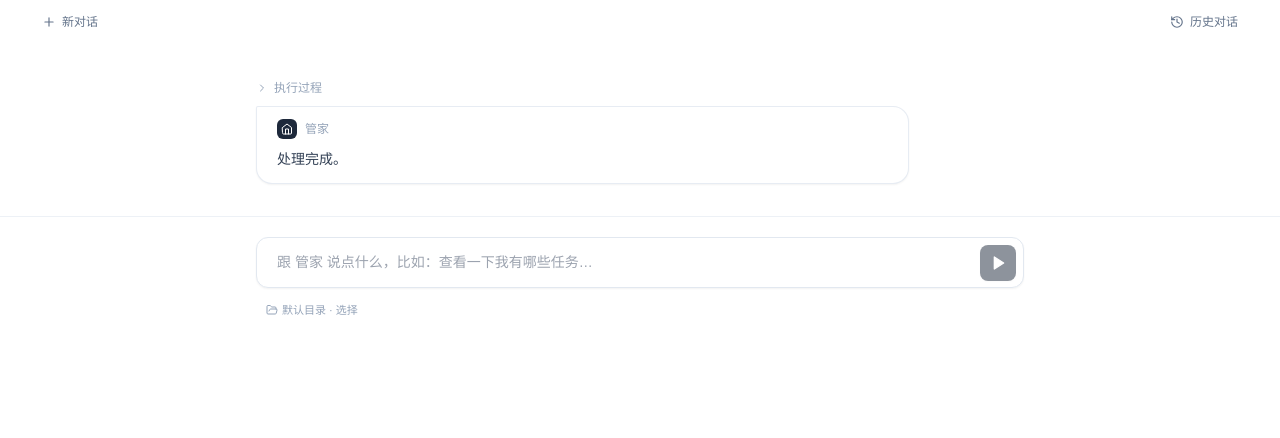
ChatStream conversation initialization (Story 2.2 AC-2 / AC-7) › 处理结束后的助手消息在顶部统一显示执行过程且默认折叠
Click the button "执行过程": (289, 88) [256,76,322,100]
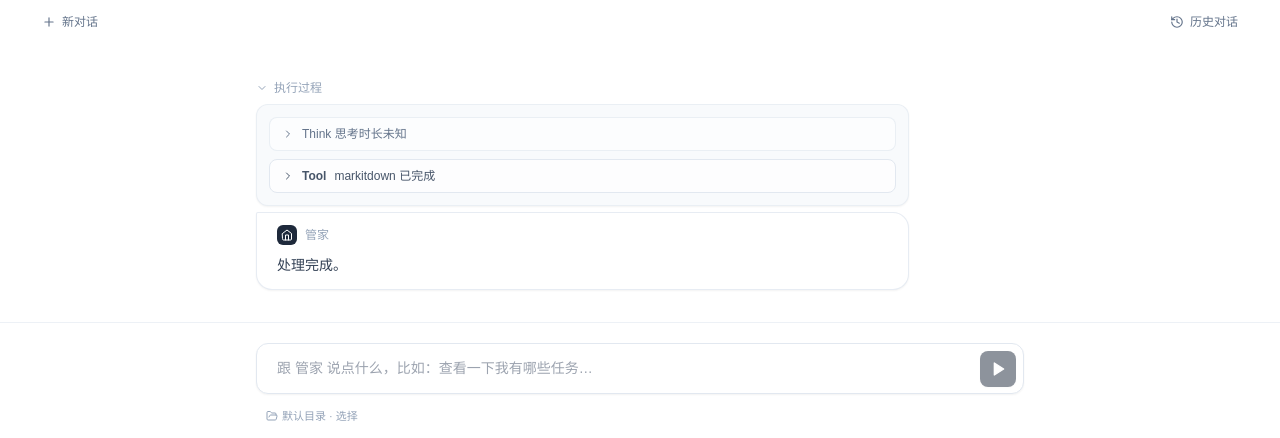
Expected: the text "markitdown 已完成" is shown, [334,168,435,184]
